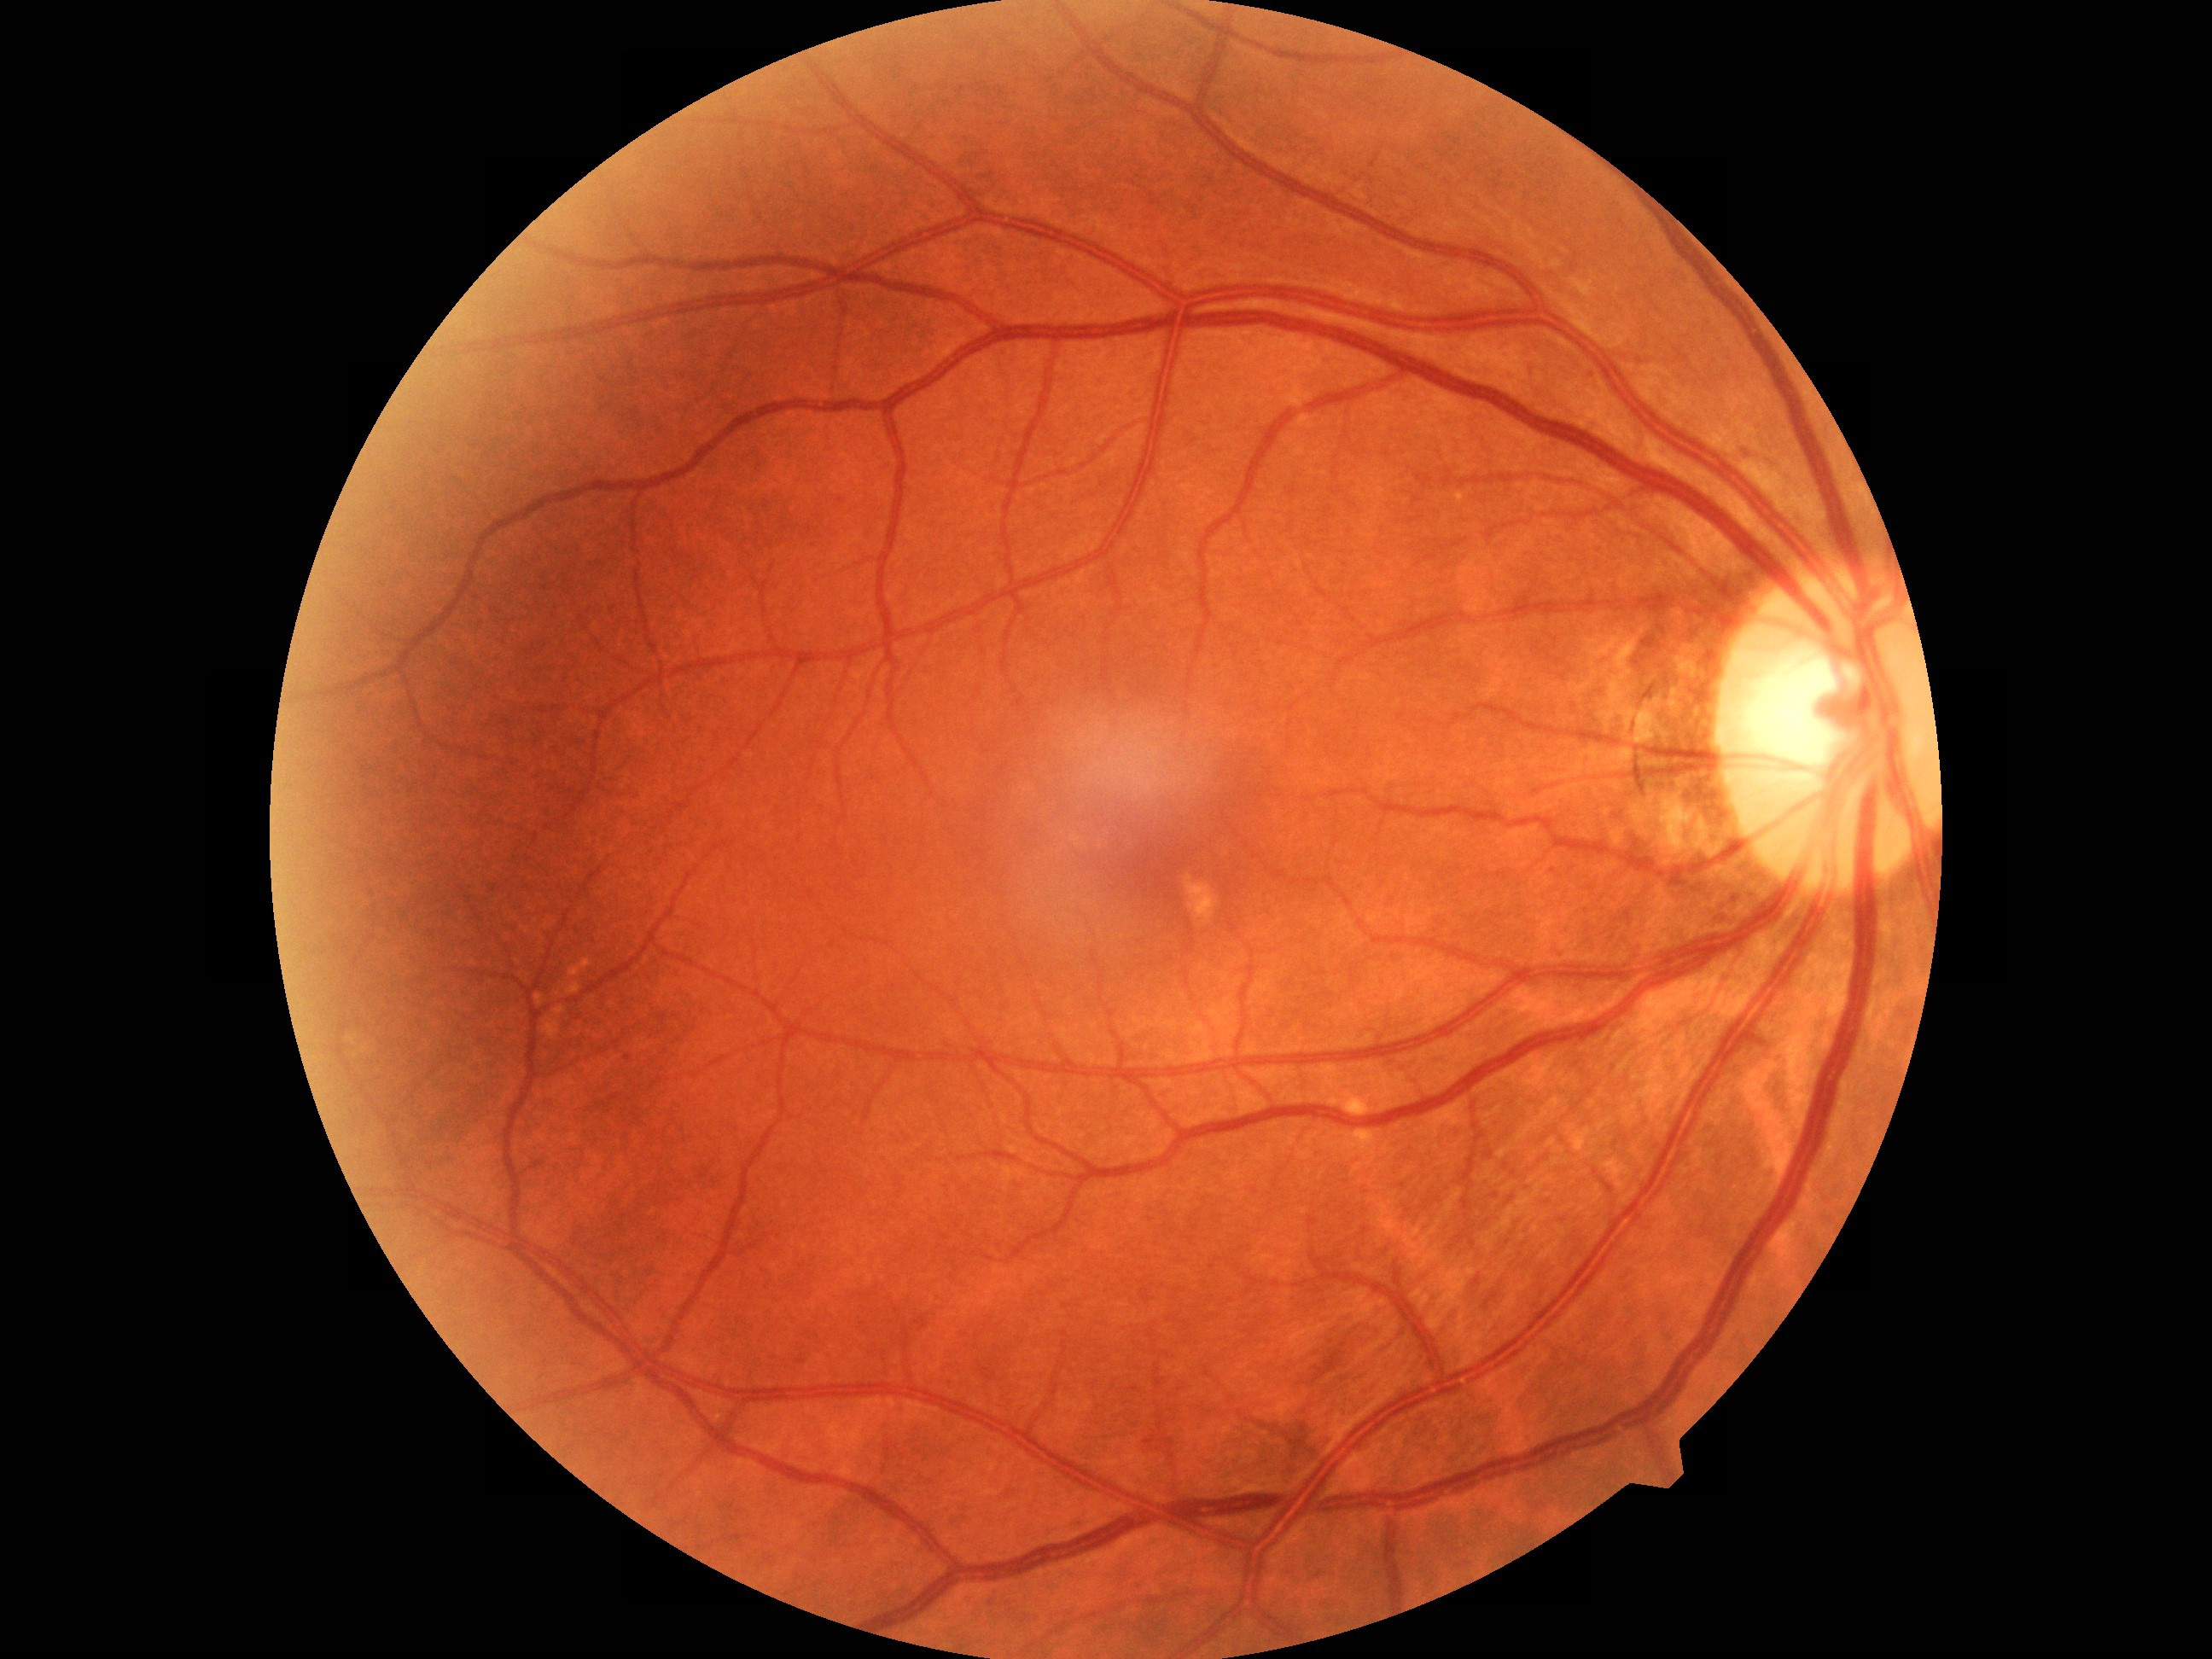Arterioles: (566, 361, 1256, 732)
Hemorrhages: (1054, 762, 1298, 953)
Optic-Disc: (1693, 558, 1933, 904)
Venules: (965, 1406, 1475, 1579), (1367, 220, 1702, 472)
